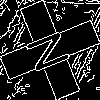N: (25, 25, 80, 75)
